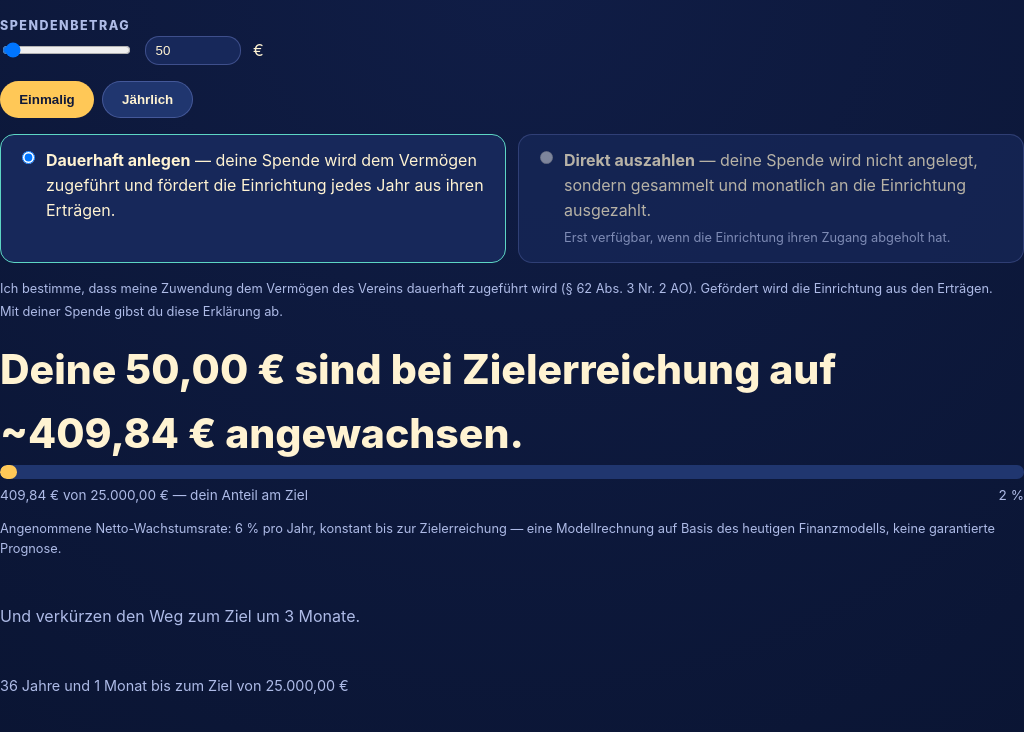
Test: SpendenRechner › Spender-Badge (Task 30: absolute Schwellen, unabhängig von Kinderzahl/Frequenz) › zeigt keinen Nächstes-Level-Hinweis mehr, sobald Diamant (die höchste Stufe) erreicht ist
Replace the text in the number field named "Spendenbetrag" with "2500": (193, 50) [145,36,241,65]
(page scrolled)
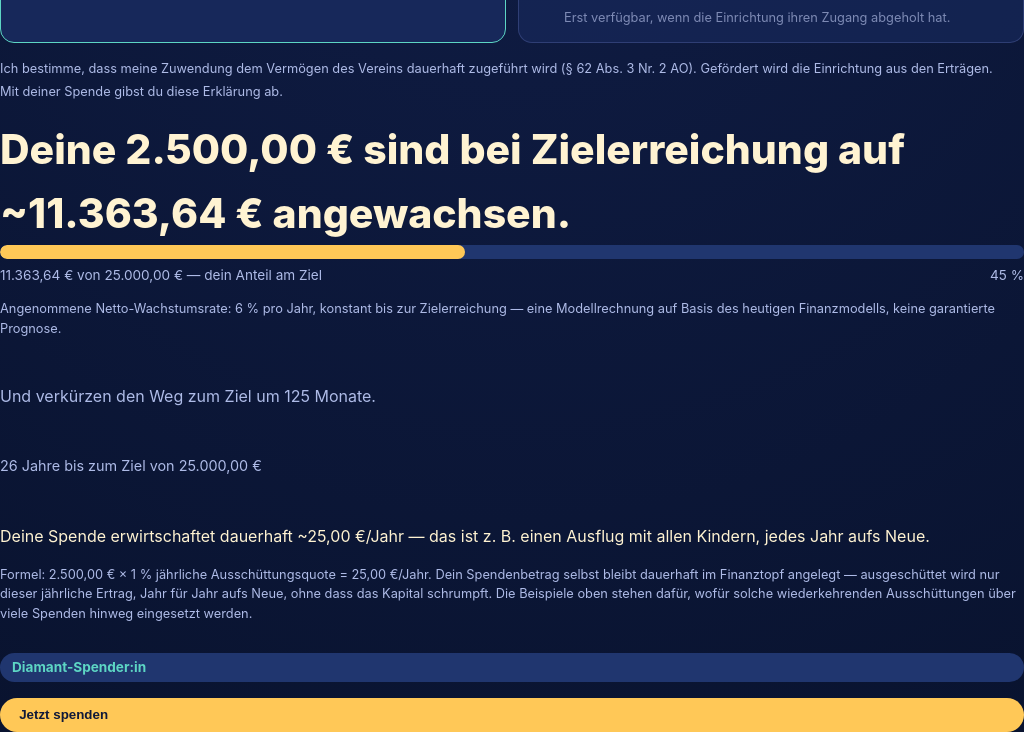
Now the text "Diamant-Spender:in" is shown, box [0,653,1023,682]
Now the text "noch 25,00 € bis Bronze" is gone
